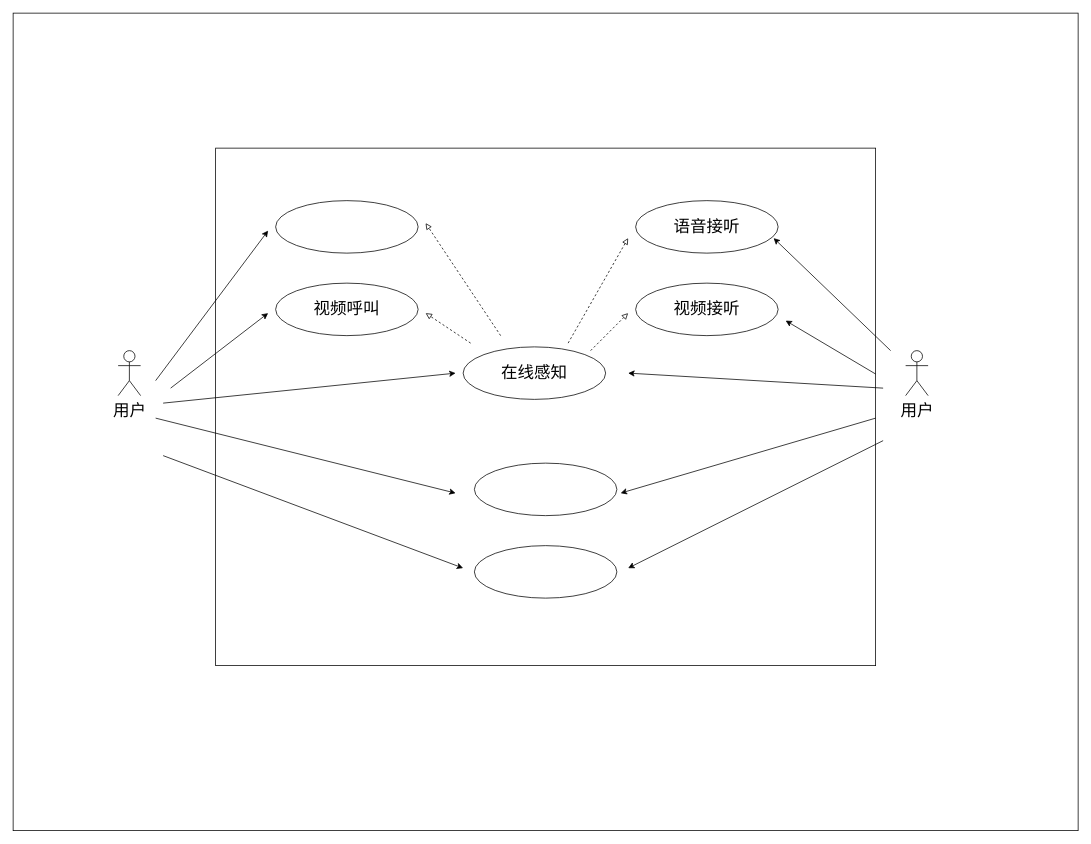
Some shapes in this 1091 by 844 pixel diagram are drawn without their labels. The box of each missing label's shape, as (x1, y1, x2, y2) in pixels:
创建会议: (474, 545, 617, 598)
加入会议: (474, 462, 617, 516)
语音呼叫: (275, 200, 418, 253)
